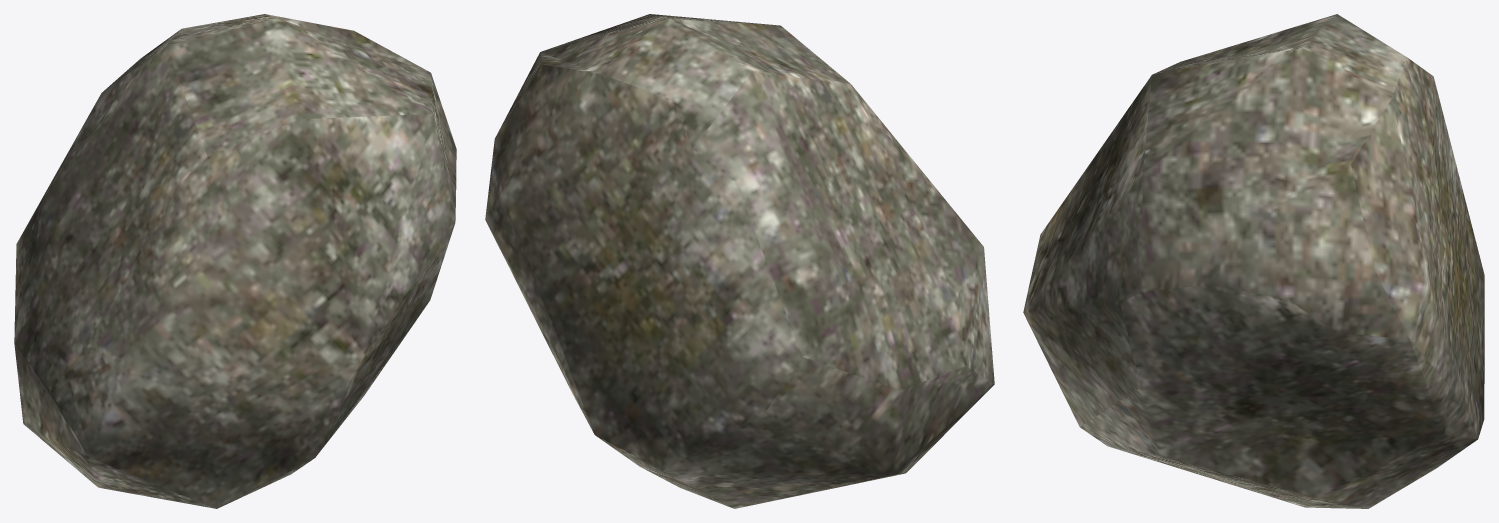
The model's file is SM_Small_Rock_03_LOD2.fbx.
3 renders of one model, left to right at view 1: azimuth 30°, elevation 25°; view 2: azimuth 150°, elevation 25°; view 3: azimuth 270°, elevation 25°, orthographic. The views are drawn at different scales.
Visible parts, largest first — view 1: SM_Small_Rock_03_LOD2; view 2: SM_Small_Rock_03_LOD2; view 3: SM_Small_Rock_03_LOD2.
Part boxes in pixels (x1,y1,x2,y2): SM_Small_Rock_03_LOD2: [14, 14, 456, 508]; SM_Small_Rock_03_LOD2: [485, 14, 994, 508]; SM_Small_Rock_03_LOD2: [1023, 14, 1484, 508].
Size of the model in its own units: 122 by 124 by 102.
